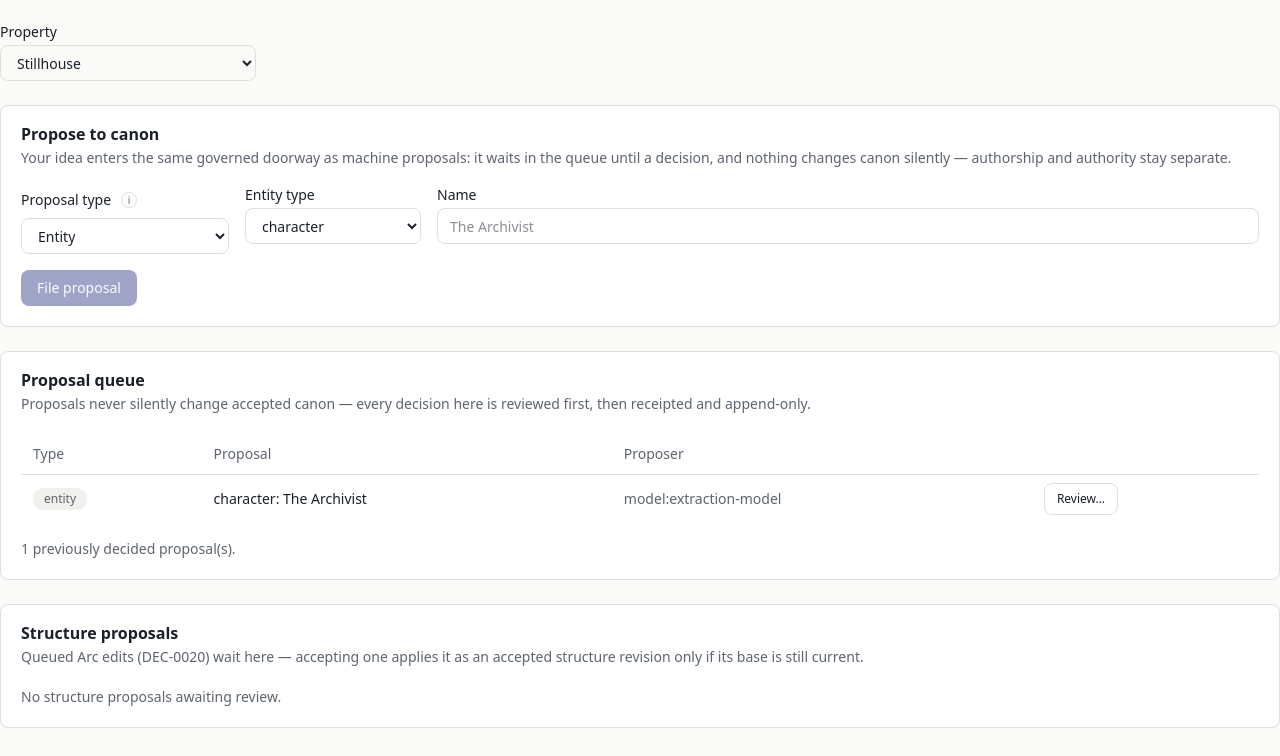
Test: Review Room › an unknown outcome offers a same-key retry and a status reconcile (SF1)
Click the button "Review…".
click(1081, 498)  # box top-left (1044, 482), bottom-right (1118, 514)
(page scrolled)
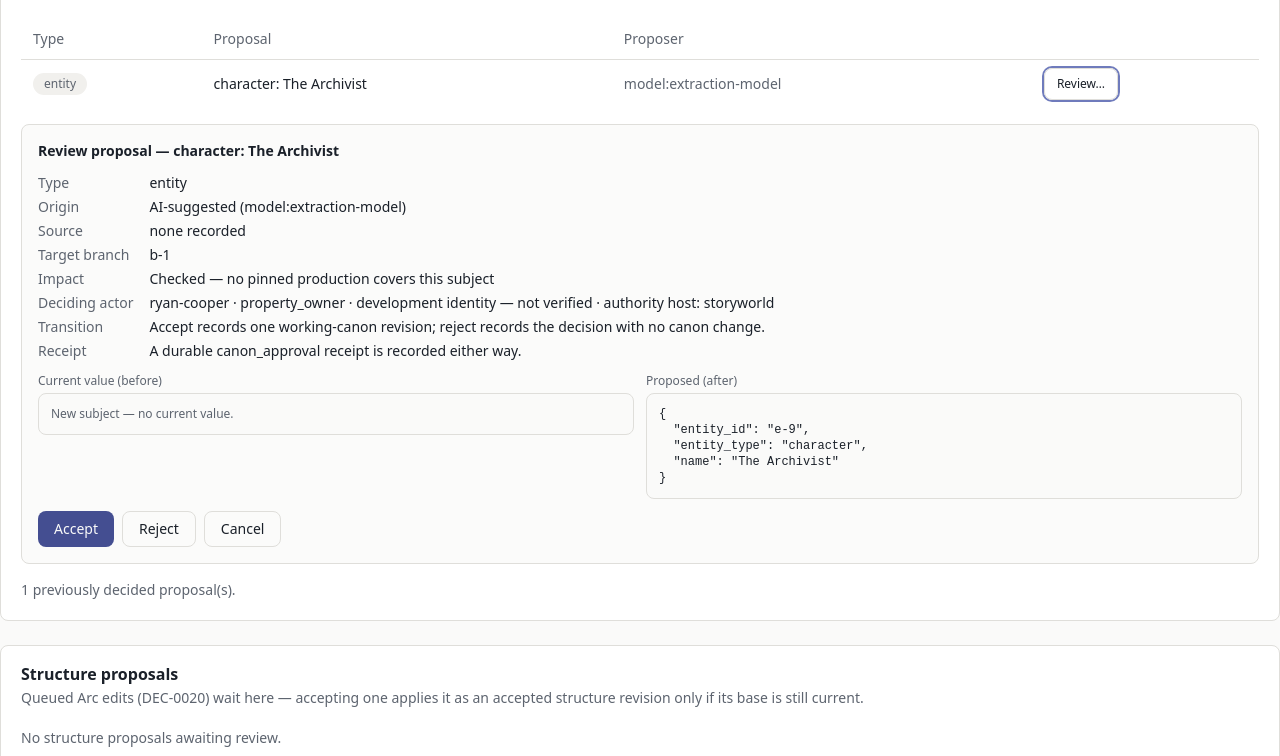
Click the button "Accept".
click(76, 528)  # box top-left (38, 510), bottom-right (114, 546)
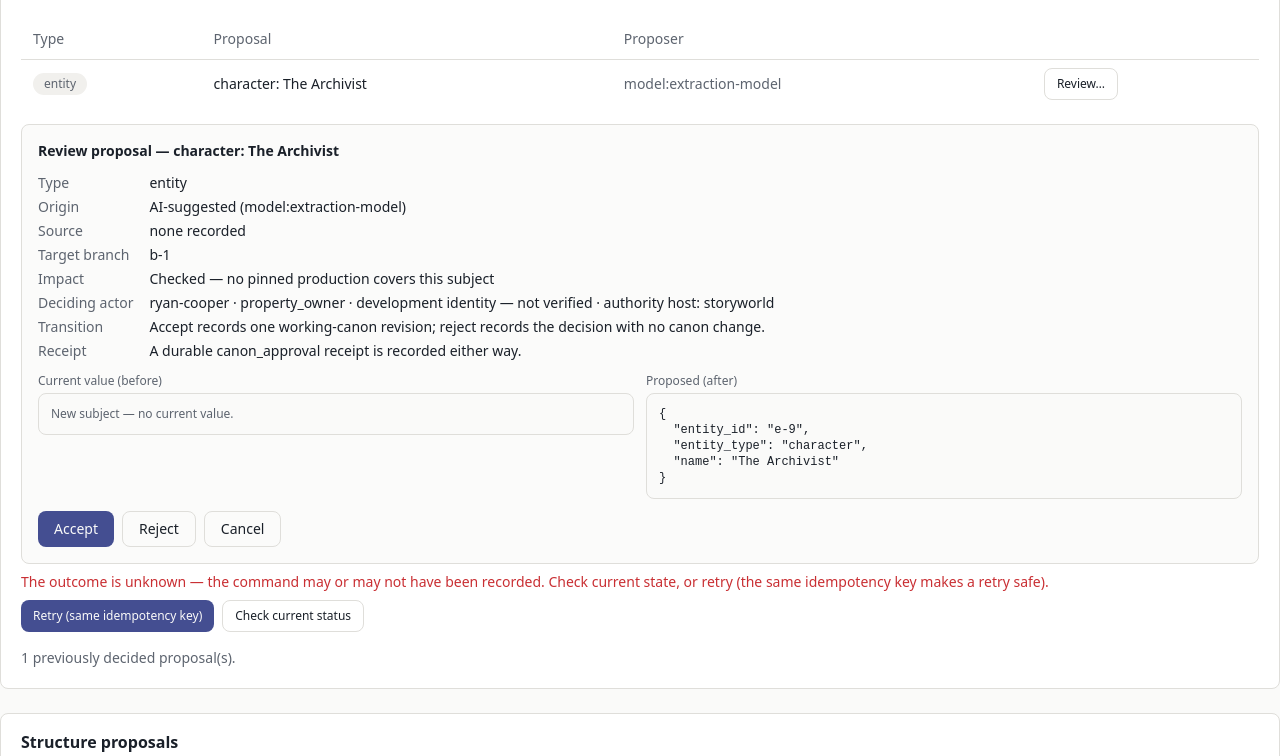
expect the text "outcome is unknown" is shown: met, box top-left (21, 572), bottom-right (1049, 590)
expect the button "Check current status" is shown: met, box top-left (222, 600), bottom-right (364, 632)
Click the button "Retry (same idempotency key)".
click(118, 616)  # box top-left (21, 600), bottom-right (214, 632)
(page scrolled)
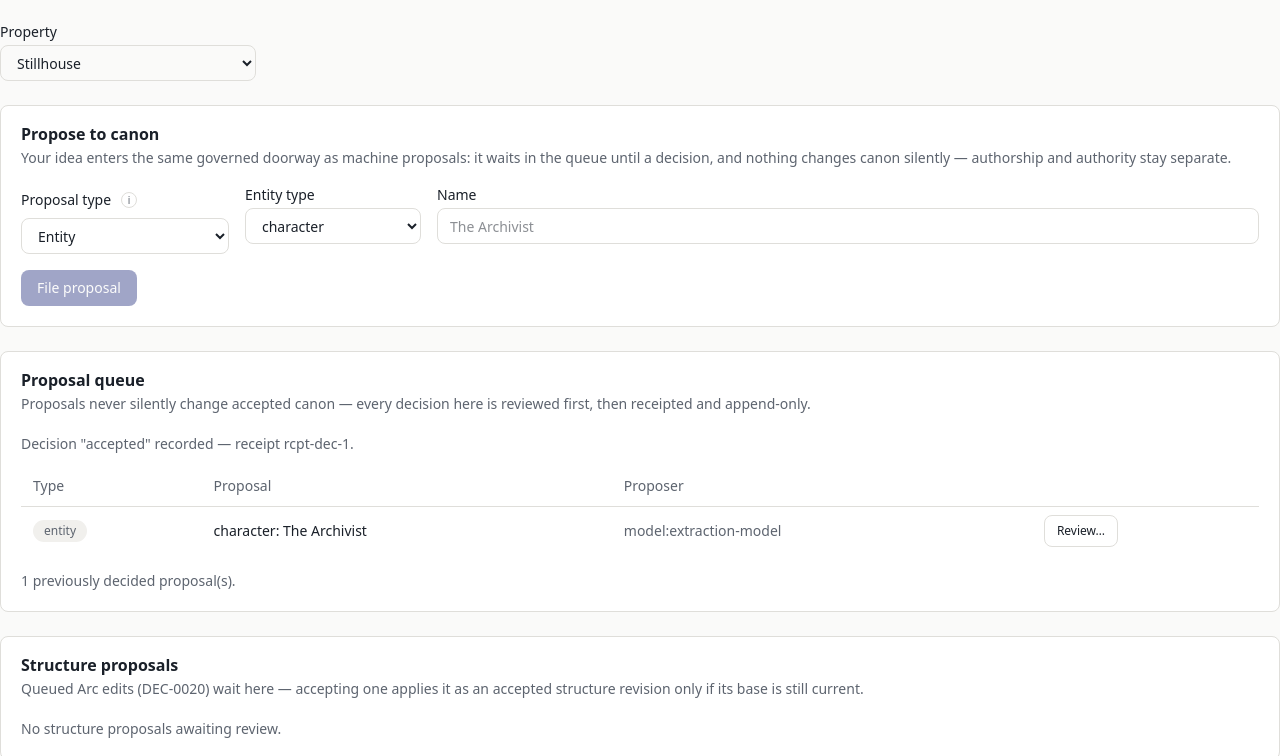
expect the text "Decision \"accepted\" recorded — receipt rcpt-dec-1." is shown: met, box top-left (21, 434), bottom-right (354, 453)
